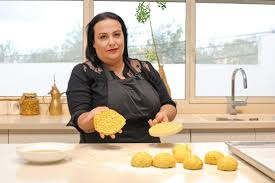middle_eastern_Female: (90, 17, 130, 61)
